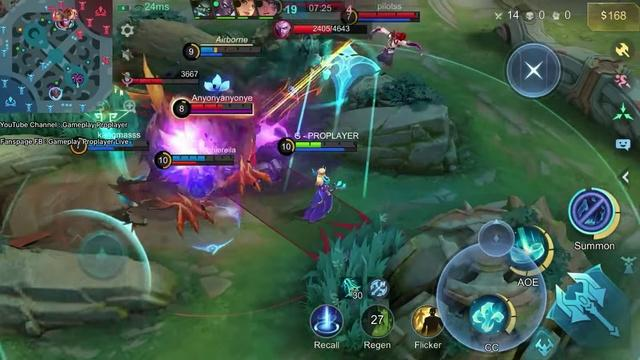Adc_Aliado: (48, 86, 62, 102)
Arbusto: (305, 220, 404, 350)
Buff_Red: (116, 85, 270, 234)
Exp_Enemigo: (60, 17, 70, 27)
Guinever: (169, 147, 226, 208)
HP_Aliado: (172, 154, 231, 162), (201, 48, 257, 54), (90, 141, 149, 146)
HP_Enemigo: (189, 103, 254, 111), (358, 12, 418, 19)
HP_Heroe_Principal: (296, 141, 356, 148)
Hechizo_Batalla: (412, 305, 442, 337)
Jungla_Enemigo: (53, 9, 64, 21)
Mana: (200, 52, 258, 58), (358, 18, 419, 23), (89, 146, 150, 150), (296, 148, 356, 151)
Mid_Aliado: (69, 19, 76, 29)
Mid_Enemigo: (70, 9, 78, 20)
Minimapa: (0, 0, 114, 112)
Pasiva_Guinever: (172, 162, 233, 165)
Pasiva_Phoveus: (190, 111, 252, 115)
Roamer_Aliado: (55, 21, 64, 30)
Roamer_Enemigo: (64, 8, 74, 20)
Skill1: (468, 294, 514, 334)
Skill2: (510, 225, 553, 271)
Vale: (373, 27, 421, 65)
Vexana: (303, 167, 333, 222)
